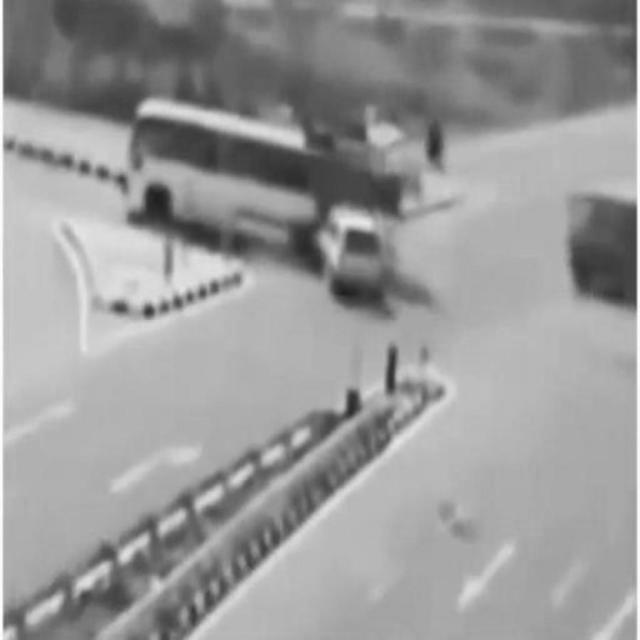accident: (124, 104, 405, 302)
